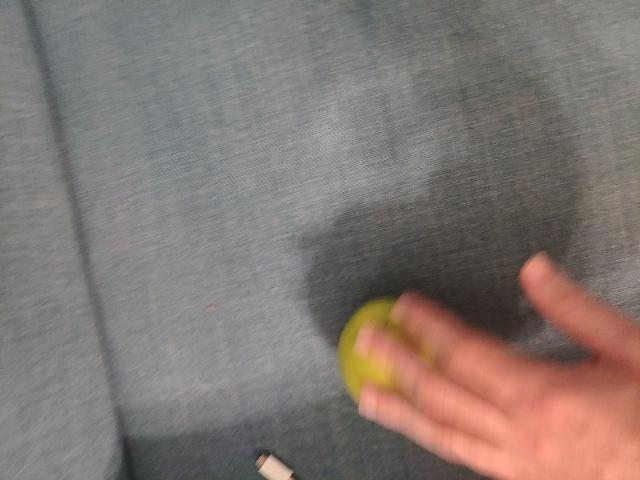apple: (304, 287, 504, 432)
